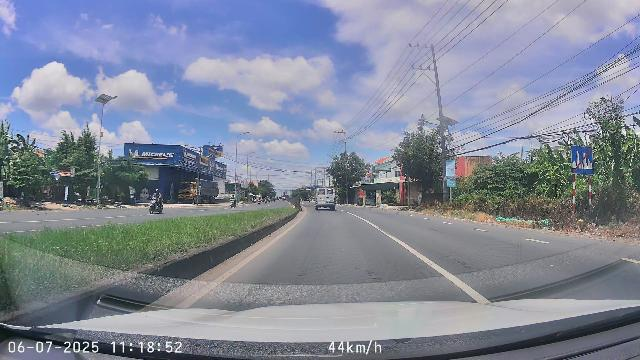421-ket-thuc-khu-dong-dan-cu: (570, 145, 594, 175)
